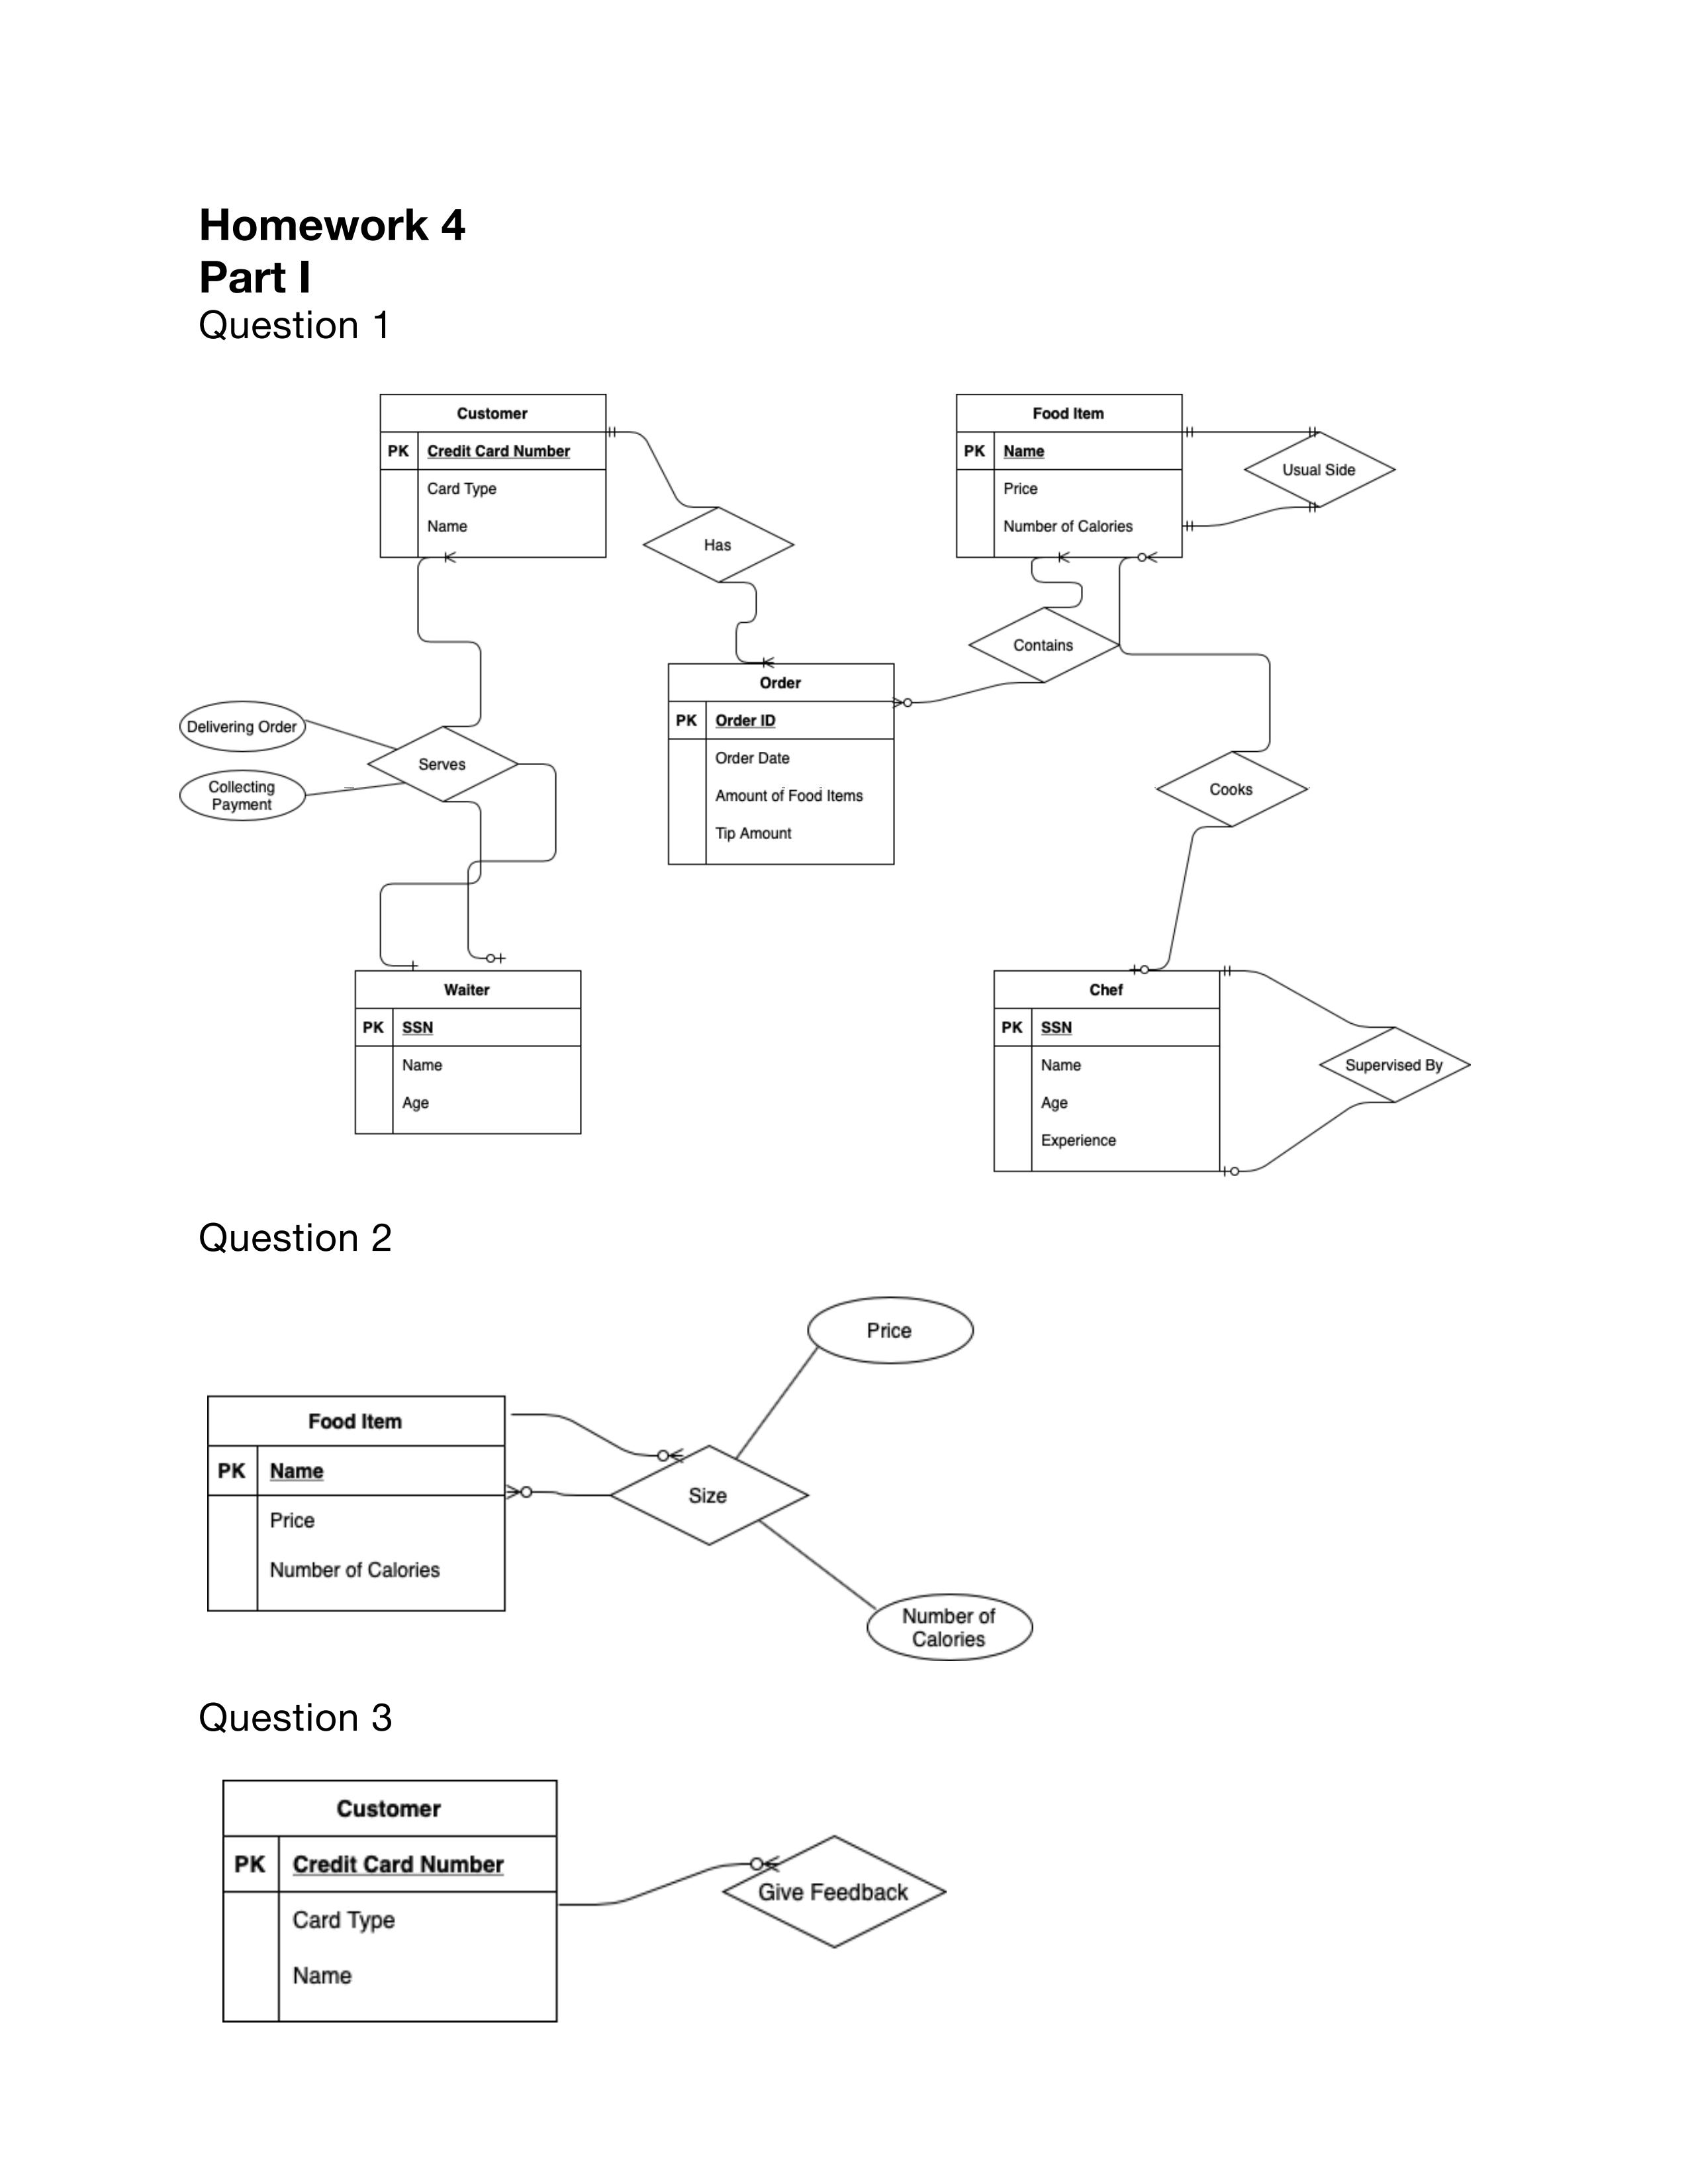Attribute: (807, 1296, 977, 1367), (865, 1592, 1034, 1663), (177, 700, 307, 752), (179, 769, 307, 821)
Entity: (220, 1778, 559, 2026), (206, 1395, 507, 1613), (667, 663, 895, 867), (993, 970, 1222, 1174), (355, 970, 583, 1136), (956, 392, 1183, 558), (379, 394, 606, 558)
Relationship: (722, 1835, 949, 1950), (612, 1447, 810, 1546), (365, 725, 518, 803), (1319, 1026, 1472, 1103), (1158, 752, 1307, 828), (1243, 433, 1395, 507), (968, 606, 1121, 681), (642, 507, 794, 581)
